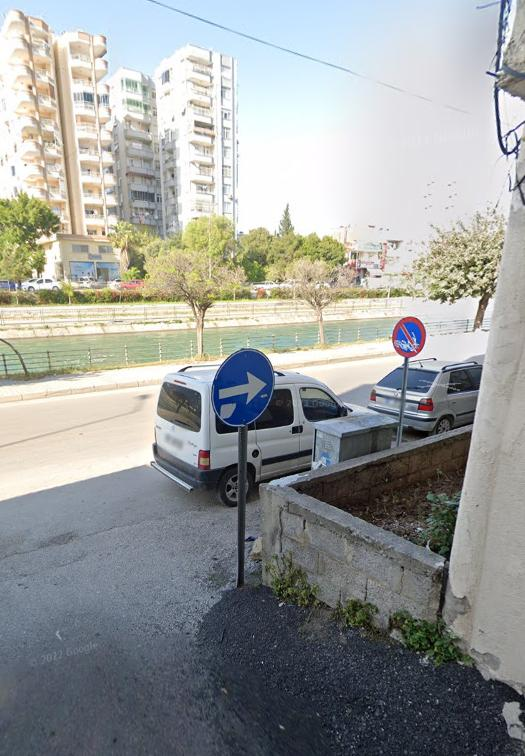nopark: (395, 318, 424, 358)
turnright: (208, 349, 273, 421)
